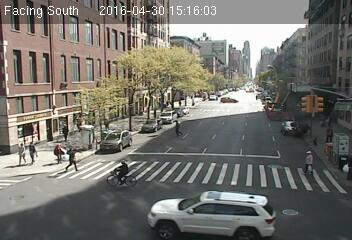neg: (30, 49, 68, 100), (124, 166, 161, 215), (305, 24, 340, 71), (157, 11, 175, 35), (161, 98, 175, 117), (108, 10, 122, 29), (136, 131, 149, 148), (241, 102, 251, 116), (239, 86, 248, 98), (193, 35, 201, 46), (142, 14, 149, 24)
